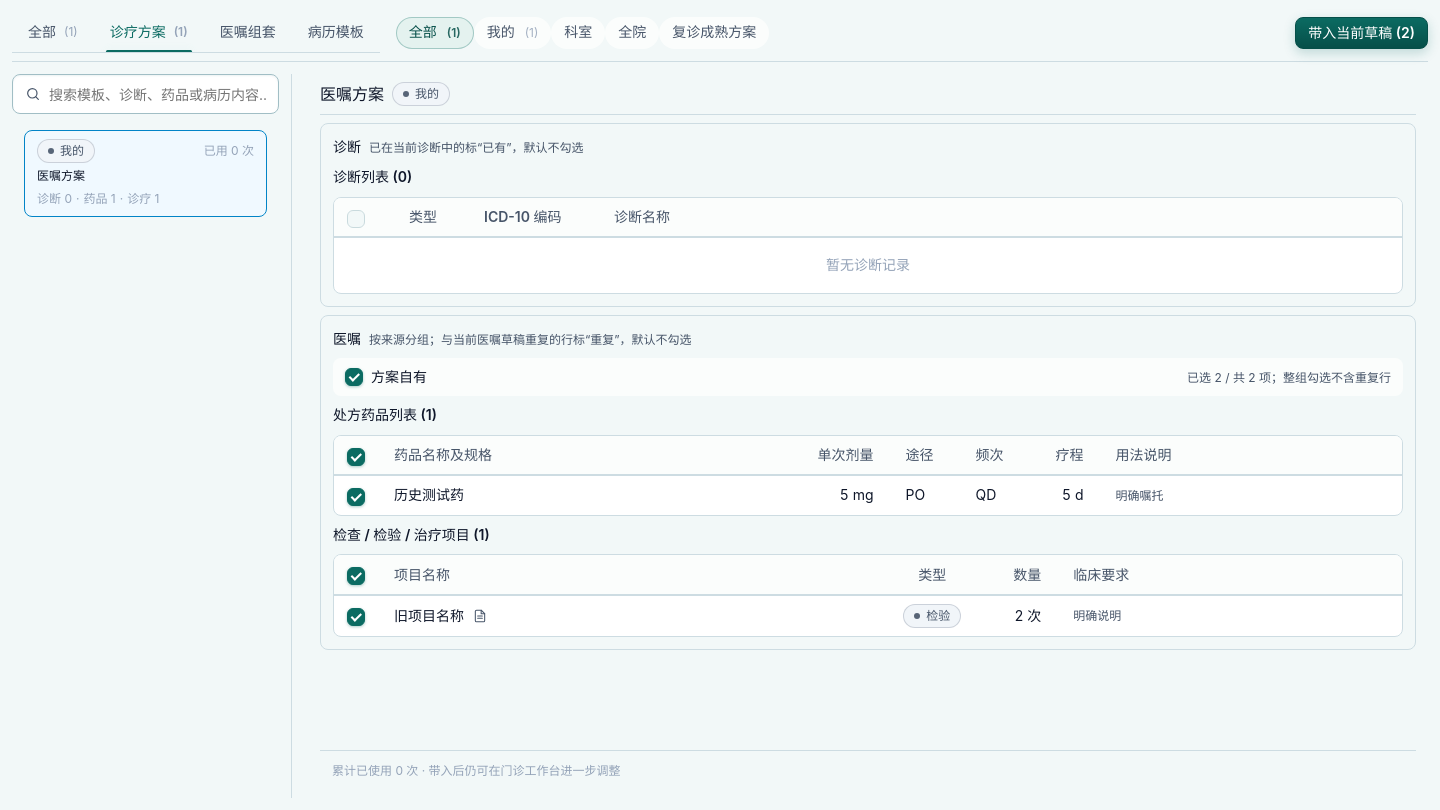
default filters by purpose › does not block plans and notes when the order-set directory fails
Click the tab named "全部(" at coordinates (53, 32), box 12,12 -> 94,52
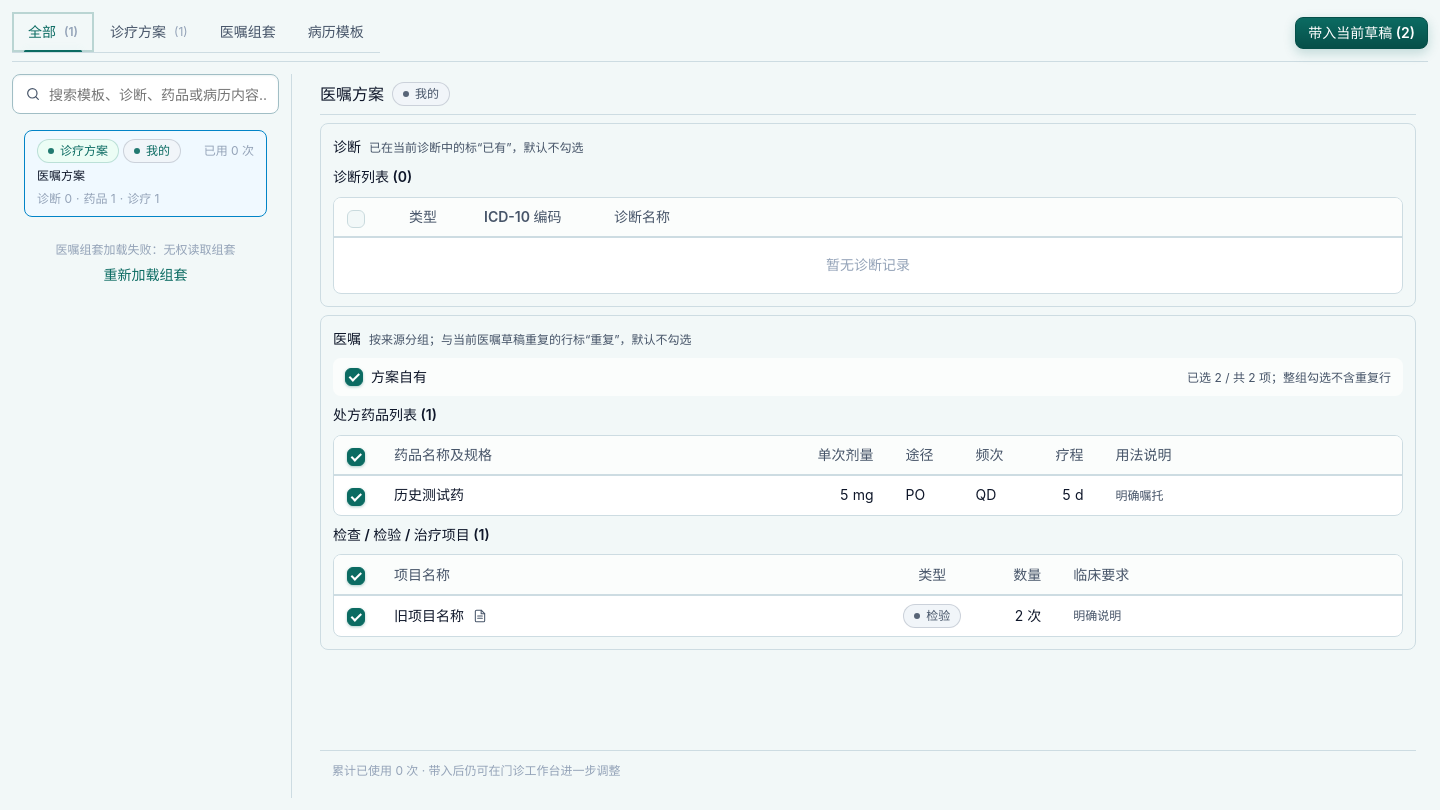
Check: the 2nd text "医嘱方案" is shown, box 37,168 -> 85,183
Check: the text "医嘱组套加载失败：无权读取组套 重新加载组套" is shown, box 56,242 -> 236,291
